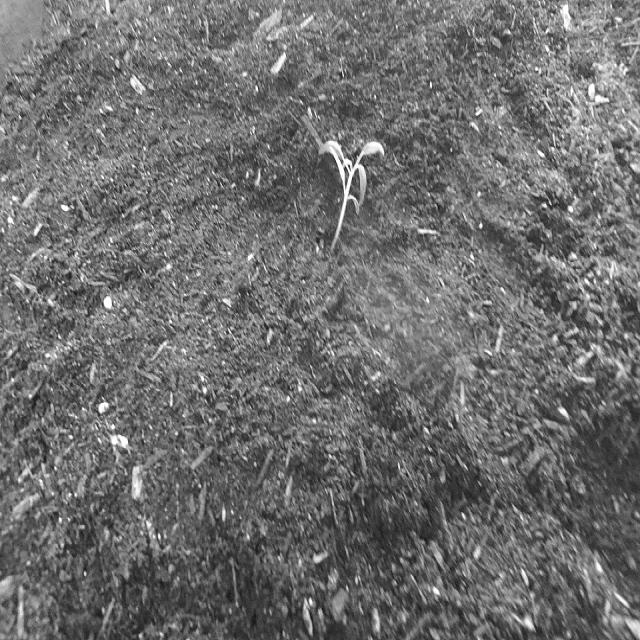Healthy: (316, 128, 388, 262)
